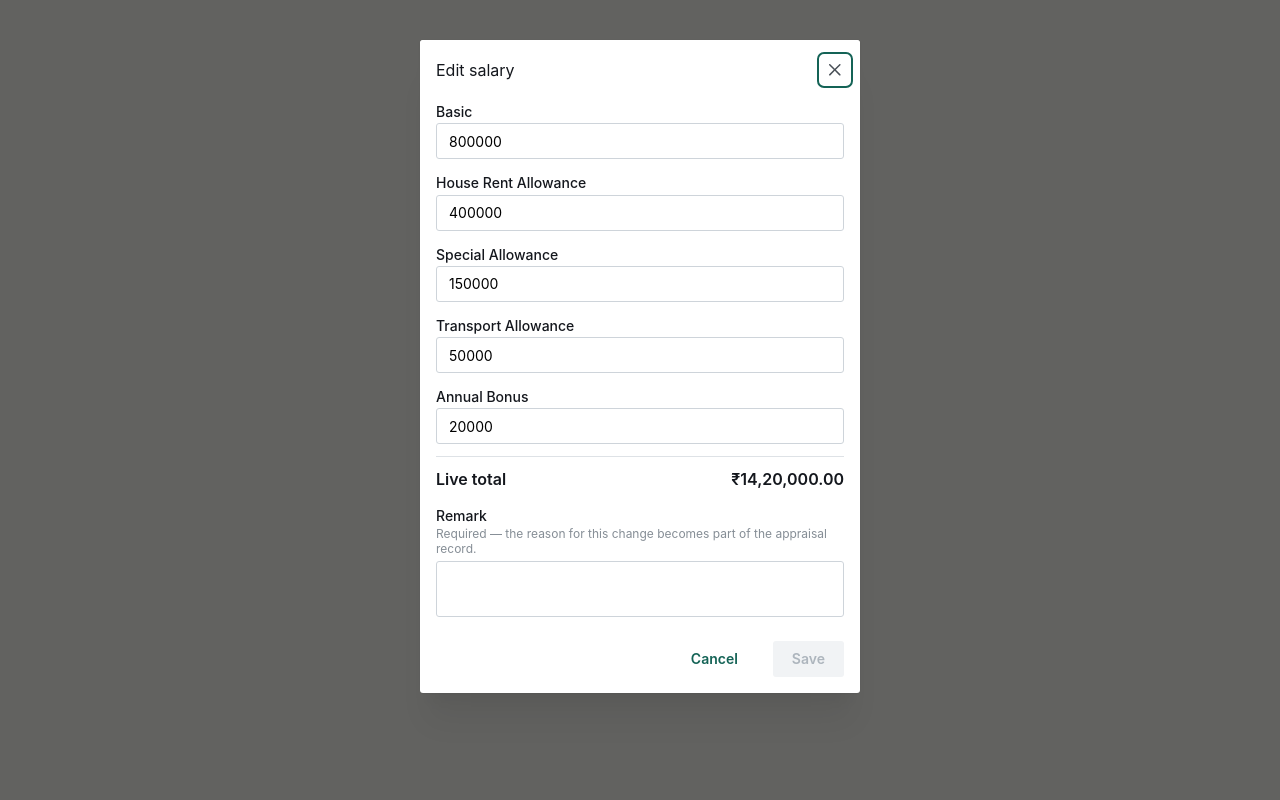
Test: EditSalaryModal › live-recomputes the displayed total as a component amount changes, without waiting for a save
expect the text "₹14,20,000.00" is shown: met, box [731,467,844,492]
Replace the text in the field labelled "Basic" with "900000" at [640, 141], box [436,123,844,159]
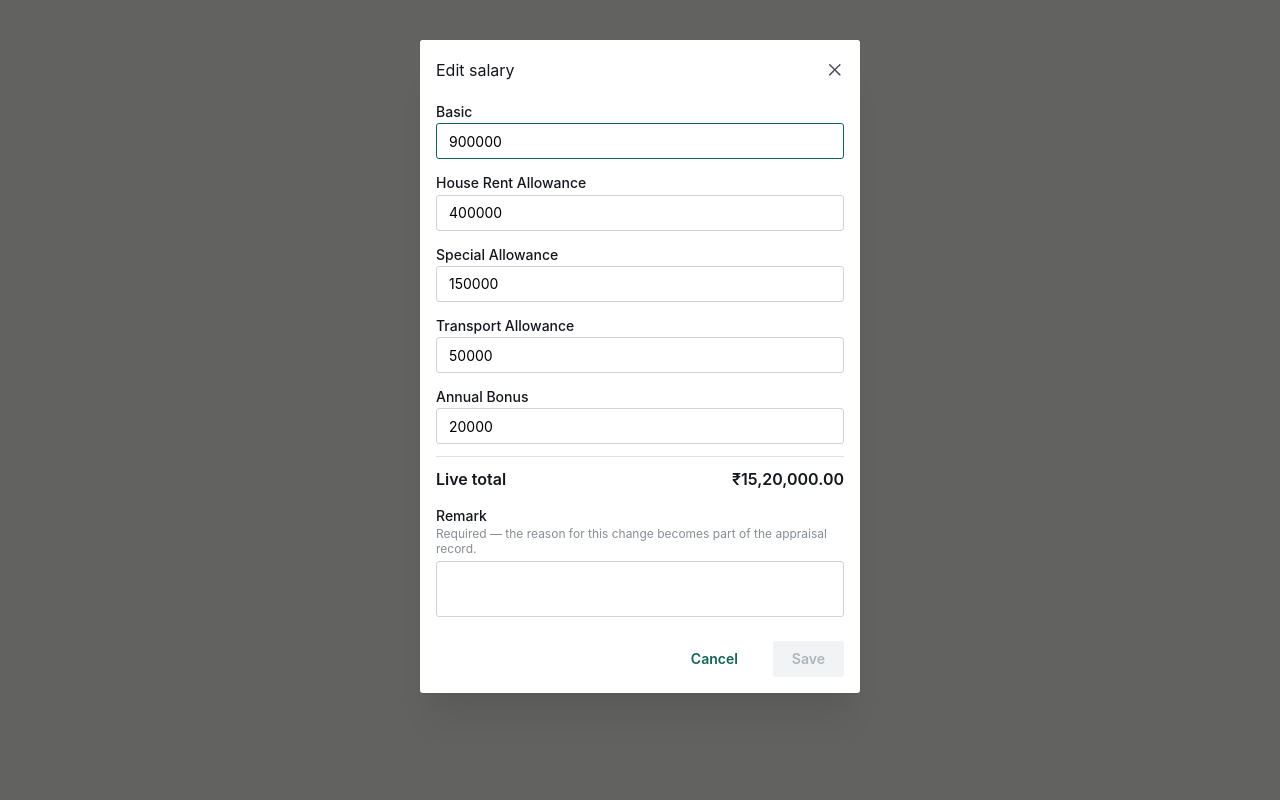
expect the text "₹15,20,000.00" is shown: met, box [732,467,844,492]
